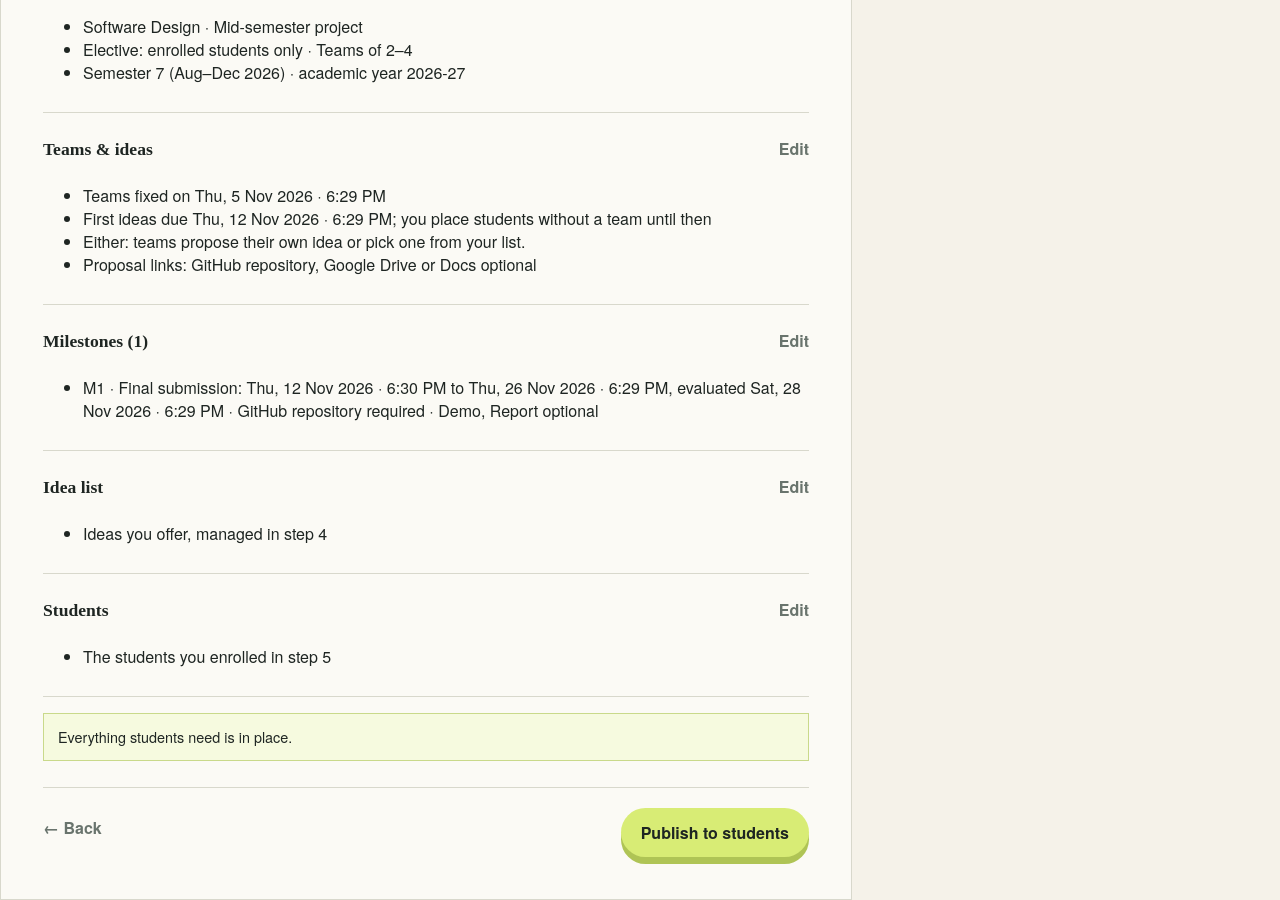
Test: CycleWizardPage › lists every problem when publishing is refused anyway
(page scrolled)
What coordinates should you click on to do the following:
click the button "Publish to students"
I would click on:
 (715, 832)
Its box is [621,808,809,857].
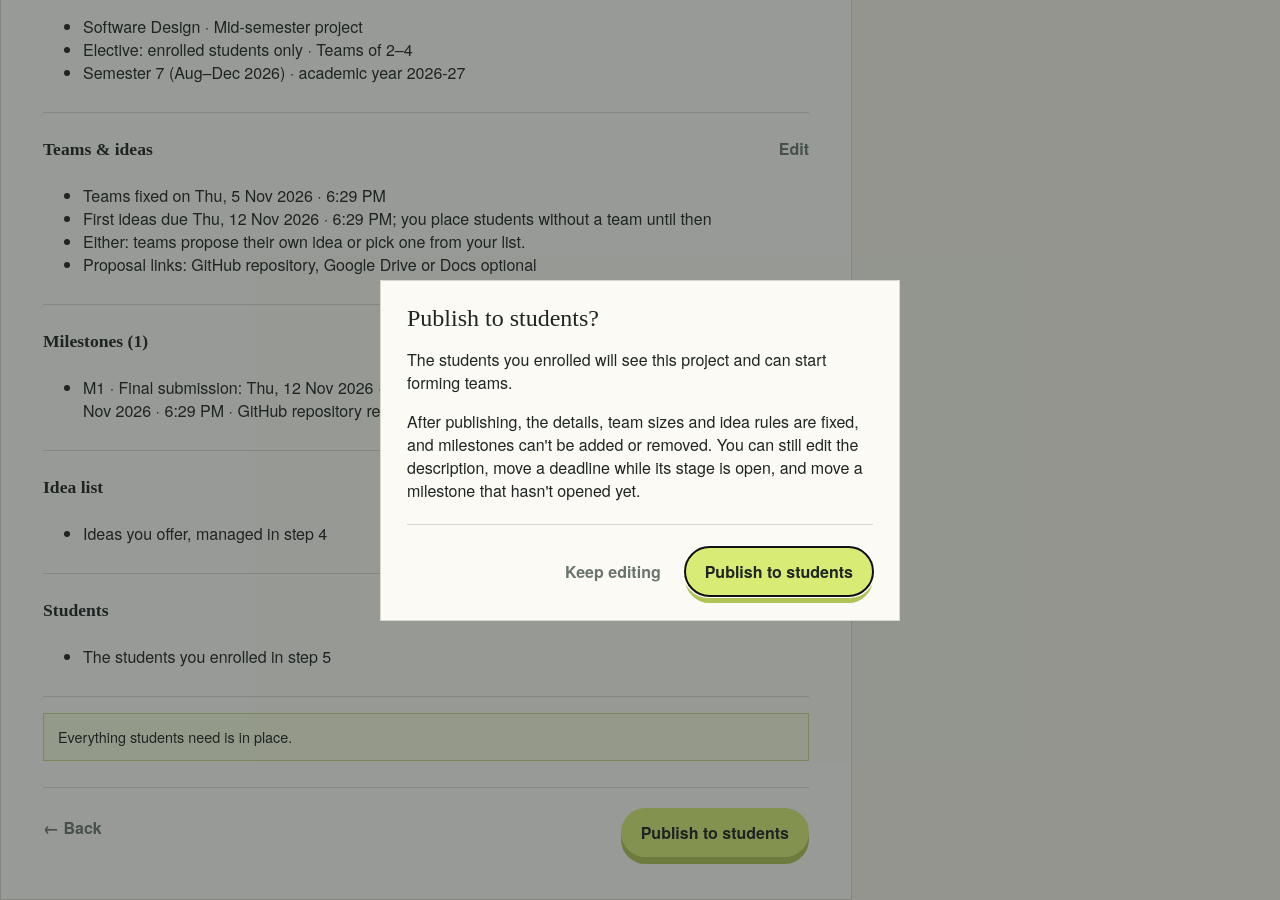
What coordinates should you click on to do the following:
click the button "Publish to students"
I would click on:
 (779, 571)
Its box is [685,546,873,596].
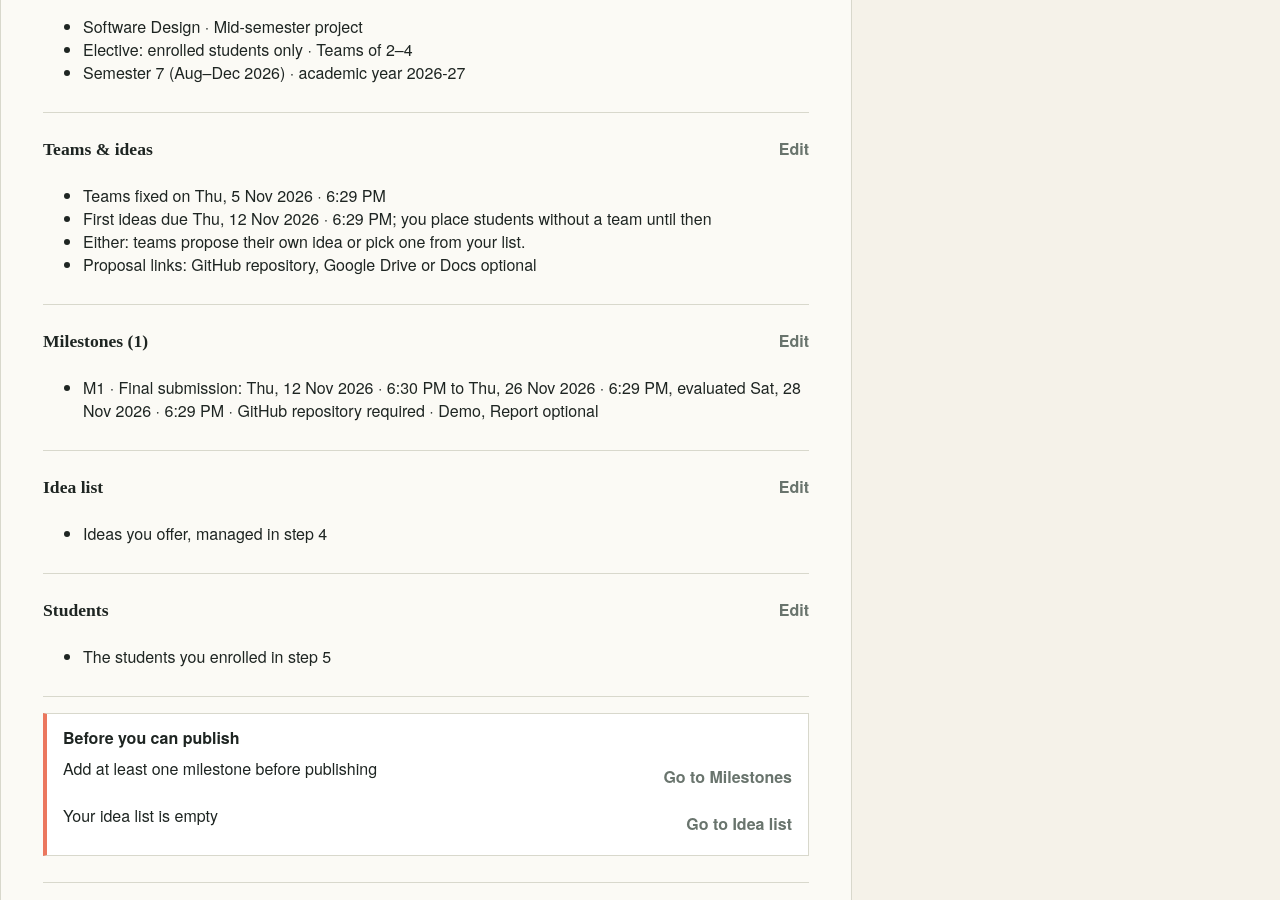
Now the text "Add at least one milestone before publishing" is shown, box [63,757,377,780]
Now the button "Go to Milestones" is shown, box [663,757,792,796]
Now the button "Go to Idea list" is shown, box [686,804,792,843]
